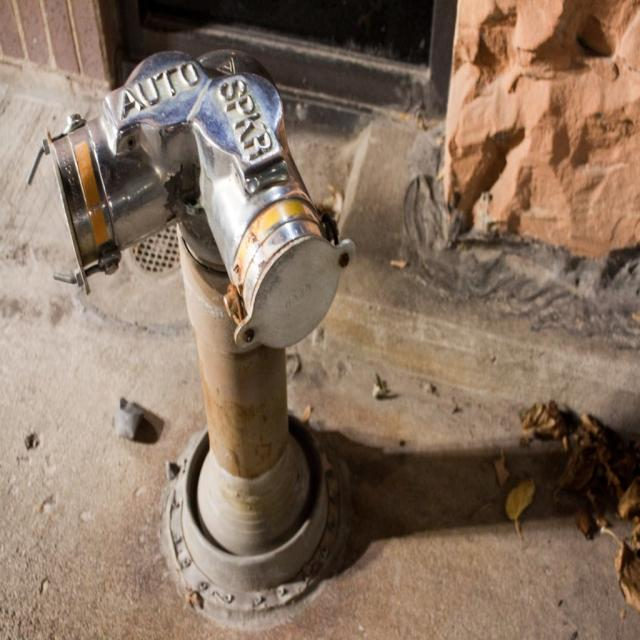fire_hydrant: (29, 49, 360, 614)
